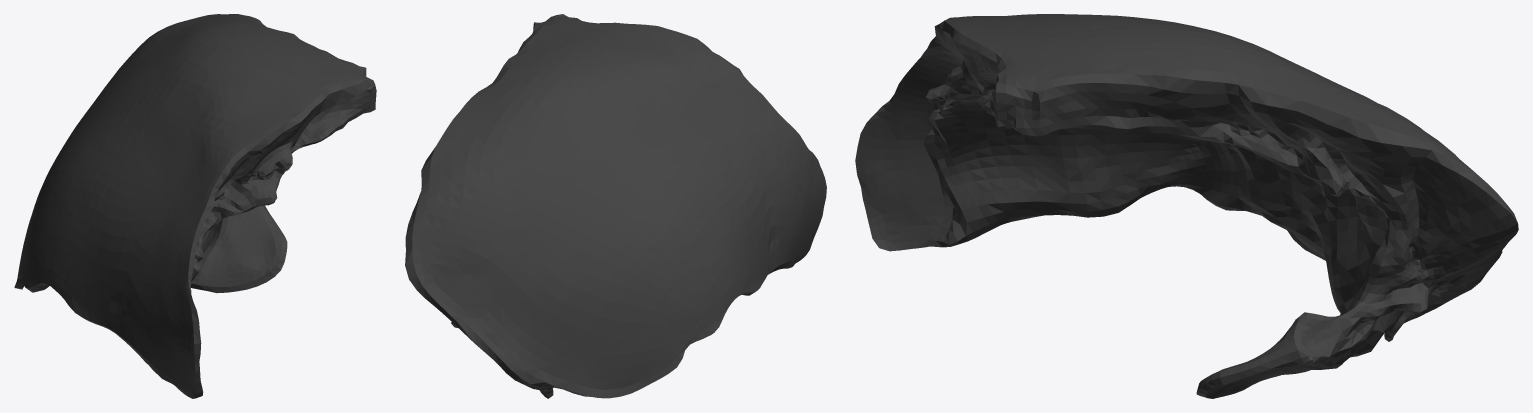
The model's file is Parietal_R.glb.
3 renders of one model, left to right at view 1: azimuth 30°, elevation 25°; view 2: azimuth 150°, elevation 25°; view 3: azimuth 270°, elevation 25°, orthographic. The views are drawn at different scales.
Visible parts, largest first — view 1: Parietal_R; view 2: Parietal_R; view 3: Parietal_R.
Boxes of the visible parts, x1,y1,x2,y2 form: Parietal_R: [14, 14, 376, 398]; Parietal_R: [405, 14, 826, 398]; Parietal_R: [855, 14, 1518, 398].
Size of the model in its own units: 209 by 205 by 347.
Materials: 1 (1 with a texture image).
